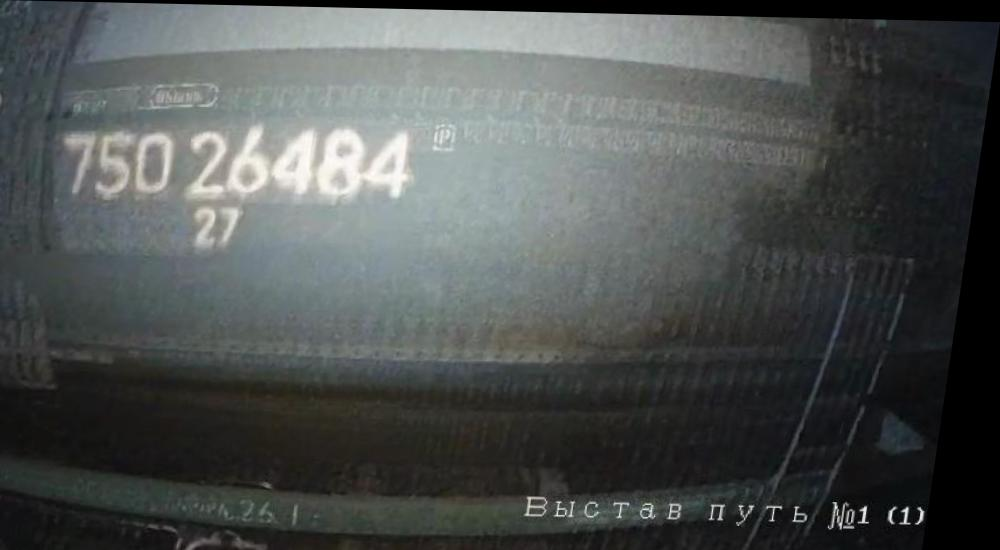Wagon-number: (57, 112, 429, 211)
